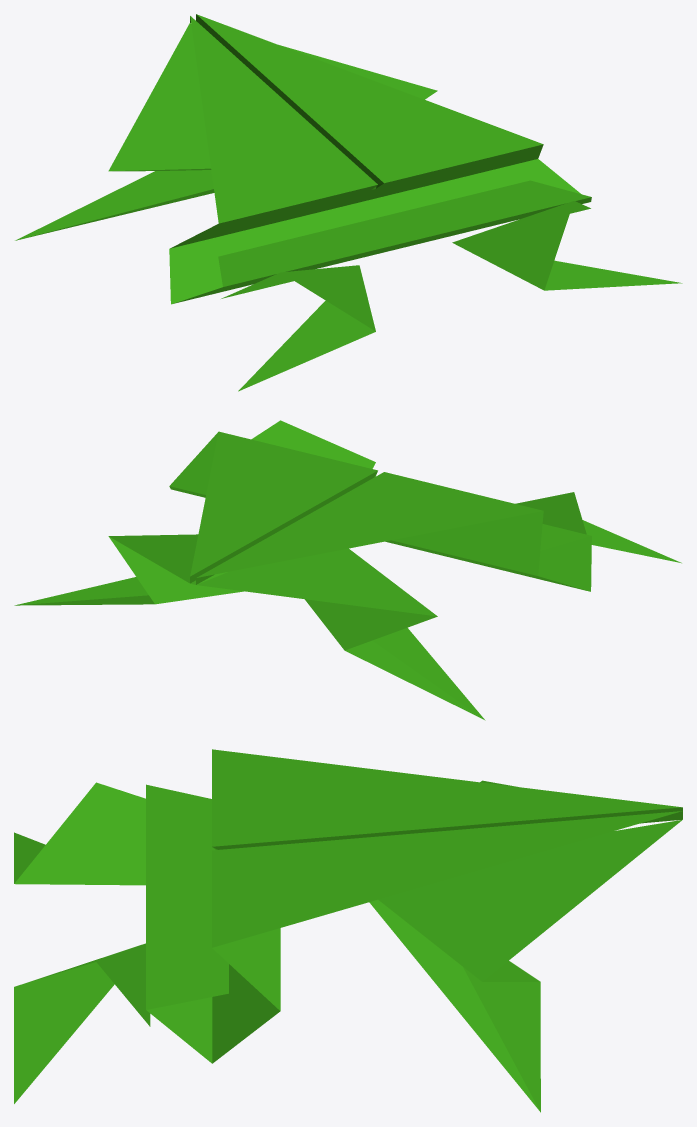
Rendered from Ground_Frog.FBX.
The picture shows the model from 3 angles, top to bottom: view 1: azimuth 30°, elevation 25°; view 2: azimuth 150°, elevation 25°; view 3: azimuth 270°, elevation 25°; orthographic projection. The views are drawn at different scales.
Parts seen in each view (by area): view 1: Ground_Frog; view 2: Ground_Frog; view 3: Ground_Frog.
Boxes of the visible parts, <box> form: Ground_Frog: <box>15,14,682,391</box>; Ground_Frog: <box>14,420,681,720</box>; Ground_Frog: <box>14,749,682,1112</box>.
Size of the model in its own units: 199 by 51.23 by 195.
